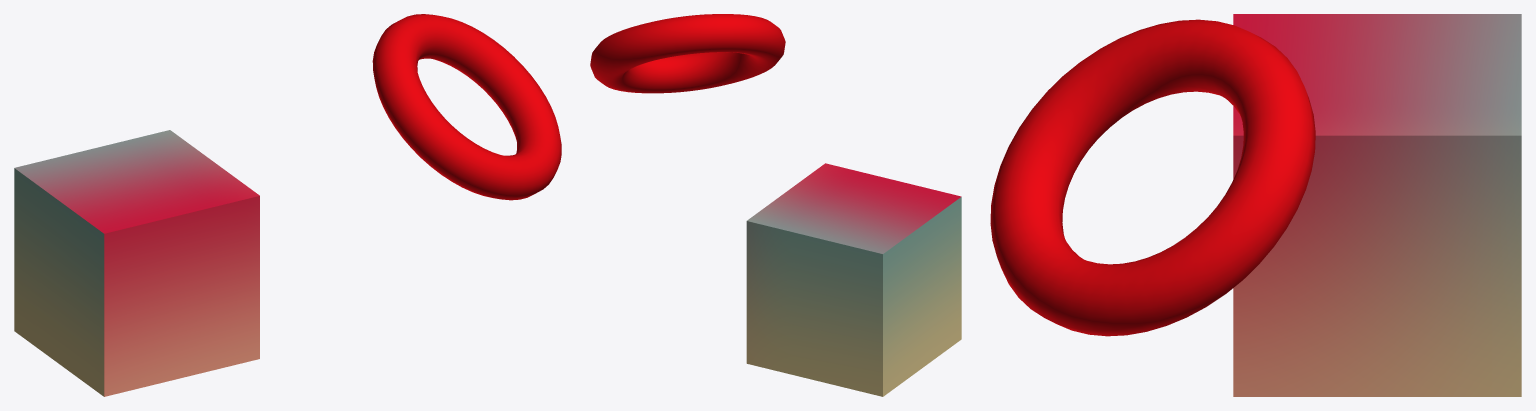
The picture shows the model from 3 angles, left to right: view 1: azimuth 30°, elevation 25°; view 2: azimuth 150°, elevation 25°; view 3: azimuth 270°, elevation 25°; orthographic projection. The views are drawn at different scales.
Visible parts, largest first — view 1: Cube, Torus; view 2: Cube, Torus; view 3: Cube, Torus.
Boxes of the visible parts, x1,y1,x2,y2 form: Cube: (14,130,259,396); Torus: (372,14,561,200); Cube: (746,163,961,396); Torus: (590,14,785,93); Cube: (1233,14,1521,396); Torus: (990,19,1315,336).
Size of the model in its own units: 5.49 by 3.64 by 3.69.
Materials: 2 (1 with a texture image).
